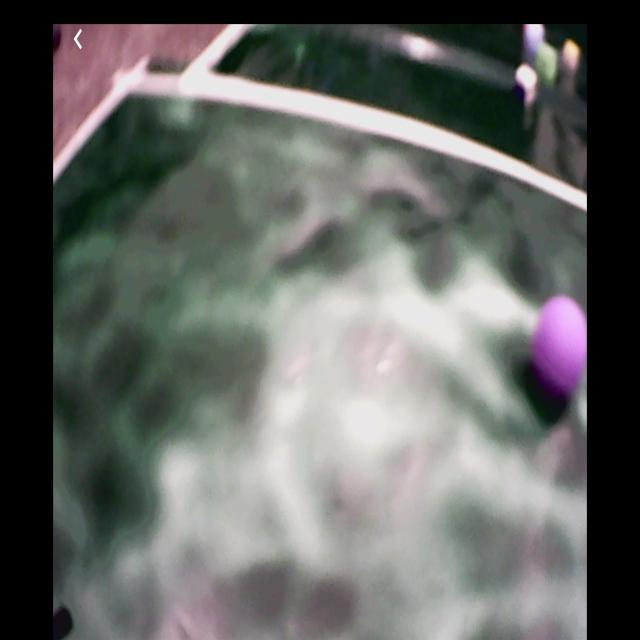ball: (534, 300, 588, 391)
